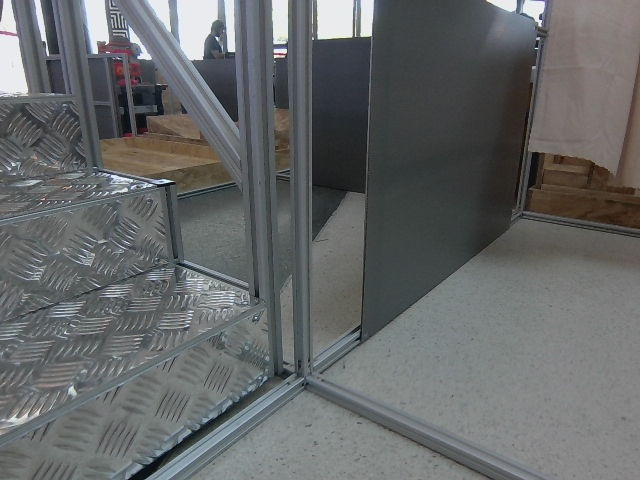curtain: (525, 0, 608, 250)
